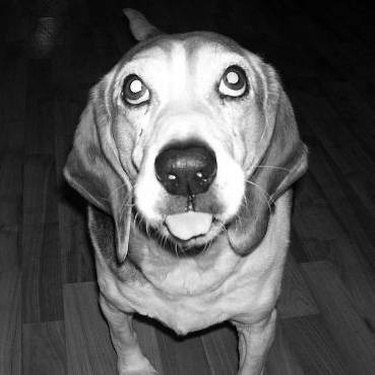dog: (53, 30, 309, 371)
